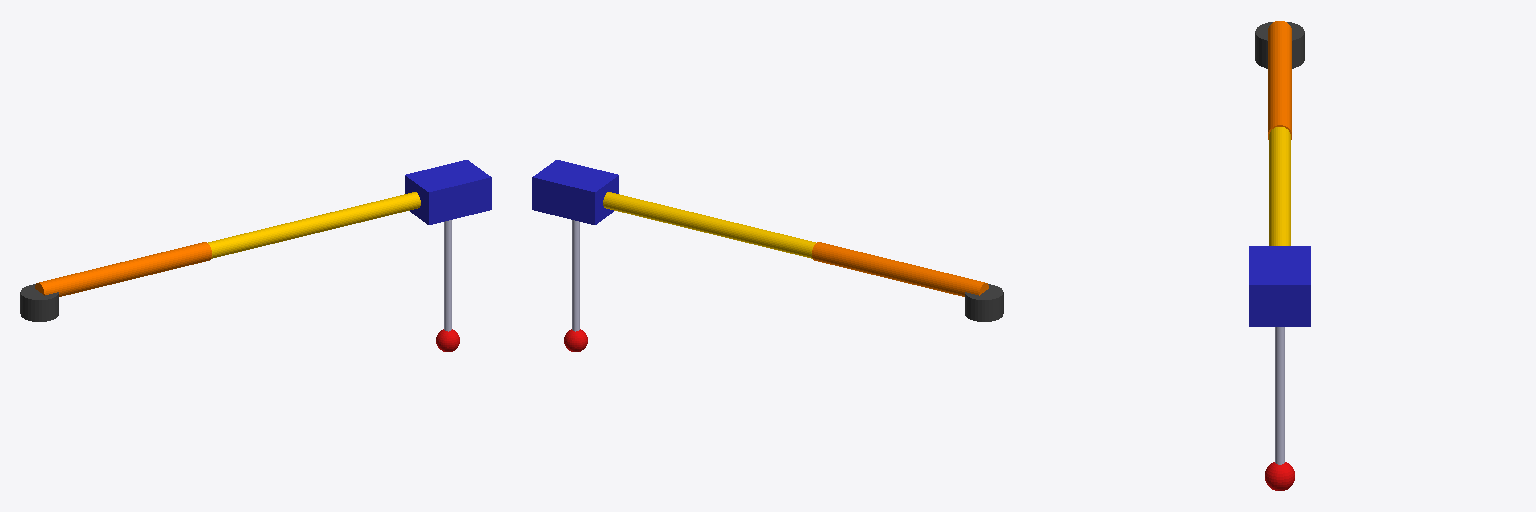
The robot description file, URDF, robot "manipulator_cart_pendulum_combined":
<?xml version="1.0"?>
<robot name="manipulator_cart_pendulum_combined">
  <!--
  Combined URDF: 2-DOF Planar Manipulator + Cart-Pendulum
  
  This merges both robots into a single articulation tree so that PhysX
  solves all constraints together. The key insight: make the manipulator's
  EE constraint the cart position, not a separate joint.
  
  Kinematic Chain:
    world → manipulator_base (fixed)
           → joint_1 (revolute Y) → link_1
           → joint_2 (revolute Y) → link_2  
           → ee_cart_joint (fixed, offset to EE position) → cart
           → pendulum_joint (continuous Y) → pendulum
  
  The cart is RIGIDLY attached to the manipulator at the EE point (1.15m from link_2 origin).
  Forward kinematics of the manipulator directly determines cart position.
  The pendulum swings from the cart.
  
  NOTE: This design removes the original prismatic cart_slider joint.
  The cart now moves with manipulator kinematics in the XZ plane, not along rails.
  This is acceptable if manipulator motion controls cart motion completely.
  -->

  <!-- ============================================ -->
  <!-- WORLD/BASE LINK (Fixed reference frame)      -->
  <!-- ============================================ -->
  <link name="world"/>

  <!-- ============================================ -->
  <!-- MANIPULATOR BASE (Fixed to world)            -->
  <!-- ============================================ -->
  <joint name="manipulator_base_joint" type="fixed">
    <parent link="world"/>
    <child link="manipulator_base"/>
    <origin xyz="-1.5 0 1.325" rpy="0 0 0"/>
  </joint>
  
  <link name="manipulator_base">
    <visual>
      <geometry>
        <cylinder radius="0.08" length="0.1"/>
      </geometry>
      <material name="dark_gray">
        <color rgba="0.3 0.3 0.3 1"/>
      </material>
    </visual>
    <collision>
      <geometry>
        <cylinder radius="0.08" length="0.1"/>
      </geometry>
    </collision>
    <inertial>
      <mass value="5.0"/>
      <origin xyz="0 0 0" rpy="0 0 0"/>
      <inertia ixx="0.01" ixy="0" ixz="0" iyy="0.01" iyz="0" izz="0.02"/>
    </inertial>
  </link>

  <!-- ============================================ -->
  <!-- MANIPULATOR LINK 1 (First arm segment)       -->
  <!-- ============================================ -->
  <!-- Joint 1: Revolute around Y-axis (planar motion in XZ plane) -->
  <joint name="manipulator_joint_1" type="revolute">
    <parent link="manipulator_base"/>
    <child link="manipulator_link_1"/>
    <origin xyz="0 0 0.05" rpy="0 0 0"/>
    <axis xyz="0 1 0"/>
    <limit lower="-3.14159" upper="3.14159" effort="100" velocity="2.0"/>
    <dynamics damping="0.5" friction="0.1"/>
  </joint>
  
  <link name="manipulator_link_1">
    <visual>
      <origin xyz="0.4 0 0" rpy="0 1.5708 0"/>
      <geometry>
        <cylinder radius="0.04" length="0.8"/>
      </geometry>
      <material name="orange">
        <color rgba="1.0 0.5 0.0 1"/>
      </material>
    </visual>
    <collision>
      <origin xyz="0.4 0 0" rpy="0 1.5708 0"/>
      <geometry>
        <cylinder radius="0.04" length="0.8"/>
      </geometry>
    </collision>
    <inertial>
      <mass value="2.0"/>
      <origin xyz="0.4 0 0" rpy="0 0 0"/>
      <inertia ixx="0.001" ixy="0" ixz="0" iyy="0.11" iyz="0" izz="0.11"/>
    </inertial>
  </link>

  <!-- ============================================ -->
  <!-- MANIPULATOR LINK 2 (Second arm segment)      -->
  <!-- ============================================ -->
  <!-- Joint 2: Revolute around Y-axis -->
  <joint name="manipulator_joint_2" type="revolute">
    <parent link="manipulator_link_1"/>
    <child link="manipulator_link_2"/>
    <origin xyz="0.8 0 0" rpy="0 0 0"/>
    <axis xyz="0 1 0"/>
    <limit lower="-3.14159" upper="3.14159" effort="100" velocity="2.0"/>
    <dynamics damping="0.5" friction="0.1"/>
  </joint>
  
  <link name="manipulator_link_2">
    <visual>
      <origin xyz="0.5 0 0" rpy="0 1.5708 0"/>
      <geometry>
        <cylinder radius="0.035" length="1.0"/>
      </geometry>
      <material name="yellow">
        <color rgba="1.0 0.8 0.0 1"/>
      </material>
    </visual>
    <collision>
      <origin xyz="0.5 0 0" rpy="0 1.5708 0"/>
      <geometry>
        <cylinder radius="0.035" length="1.0"/>
      </geometry>
    </collision>
    <inertial>
      <mass value="1.5"/>
      <origin xyz="0.5 0 0" rpy="0 0 0"/>
      <inertia ixx="0.001" ixy="0" ixz="0" iyy="0.125" iyz="0" izz="0.125"/>
    </inertial>
  </link>

  <!-- ============================================ -->
  <!-- CART (Rigidly attached to EE via fixed joint) -->
  <!-- ============================================ -->
  <!-- 
  CRITICAL: This fixed joint connects the manipulator's EE point to the cart.
  The cart is now part of the manipulator's kinematic chain.
  
  EE position: link_2 origin + 1.0m along X = 1.0m from link_2
  Cart center should be at EE + 0.15m (half cart length) = 1.15m from link_2
  
  IMPORTANT: The cart NO LONGER HAS a prismatic joint!
  The manipulator's forward kinematics directly control cart position.
  The cart moves with the manipulator's end-effector in the XZ plane.
  -->
  <joint name="ee_to_cart_joint" type="fixed">
    <parent link="manipulator_link_2"/>
    <child link="cart"/>
    <origin xyz="1.15 0 0" rpy="0 0 0"/>
  </joint>
  
  <link name="cart">
    <visual>
      <geometry>
        <box size="0.3 0.2 0.15"/>
      </geometry>
      <material name="blue">
        <color rgba="0.2 0.2 0.8 1"/>
      </material>
    </visual>
    <collision>
      <geometry>
        <box size="0.3 0.2 0.15"/>
      </geometry>
    </collision>
    <inertial>
      <mass value="5.0"/>
      <origin xyz="0 0 0" rpy="0 0 0"/>
      <inertia ixx="0.05" ixy="0" ixz="0" iyy="0.08" iyz="0" izz="0.06"/>
    </inertial>
  </link>

  <!-- ============================================ -->
  <!-- PENDULUM (Rotates in XZ plane, around Y)     -->
  <!-- ============================================ -->
  <joint name="pendulum_joint" type="continuous">
    <parent link="cart"/>
    <child link="pendulum"/>
    <origin xyz="0 0 -0.075" rpy="0 0 0"/>
    <axis xyz="0 1 0"/>
    <dynamics damping="0.05" friction="0.01"/>
  </joint>
  
  <!-- Pendulum: Rod with point mass at tip -->
  <link name="pendulum">
    <!-- Rod (visual only, massless) -->
    <visual>
      <origin xyz="0 0 -0.3" rpy="0 0 0"/>
      <geometry>
        <cylinder radius="0.015" length="0.6"/>
      </geometry>
      <material name="silver">
        <color rgba="0.8 0.8 0.9 1"/>
      </material>
    </visual>
    <collision>
      <origin xyz="0 0 -0.3" rpy="0 0 0"/>
      <geometry>
        <cylinder radius="0.015" length="0.6"/>
      </geometry>
    </collision>
    <!-- Point mass at pendulum tip (0.6m below pivot) -->
    <inertial>
      <mass value="2.0"/>
      <origin xyz="0 0 -0.6" rpy="0 0 0"/>
      <inertia ixx="0.72" ixy="0" ixz="0" iyy="0.72" iyz="0" izz="0.001"/>
    </inertial>
    <!-- Tip ball (visual) -->
    <visual>
      <origin xyz="0 0 -0.6" rpy="0 0 0"/>
      <geometry>
        <sphere radius="0.05"/>
      </geometry>
      <material name="red">
        <color rgba="0.9 0.1 0.1 1"/>
      </material>
    </visual>
    <collision>
      <origin xyz="0 0 -0.6" rpy="0 0 0"/>
      <geometry>
        <sphere radius="0.05"/>
      </geometry>
    </collision>
  </link>

</robot>

--- What the picture shows (computed from the rendered views, not written in the file) ---
3 views of the same robot in one strip: view 1: azimuth 30°, elevation 25°; view 2: azimuth 150°, elevation 25°; view 3: azimuth 270°, elevation 25° (orthographic).
Model manipulator_cart_pendulum_combined with 6 links and 5 joints (2 revolute, 1 continuous, 2 fixed), rooted at world, posed every joint at zero.
Links seen in each view (by area): view 1: cart, manipulator_link_2, manipulator_link_1, pendulum, manipulator_base; view 2: cart, manipulator_link_2, manipulator_link_1, pendulum, manipulator_base; view 3: cart, manipulator_link_2, manipulator_link_1, pendulum, manipulator_base.
Boxes of the visible links, <box> form: cart: <box>405,160,491,224</box>; manipulator_link_2: <box>208,192,420,258</box>; manipulator_link_1: <box>35,242,211,296</box>; pendulum: <box>436,220,459,351</box>; manipulator_base: <box>20,284,58,321</box>; cart: <box>532,160,618,224</box>; manipulator_link_2: <box>603,192,815,258</box>; manipulator_link_1: <box>812,242,988,296</box>; pendulum: <box>564,220,587,351</box>; manipulator_base: <box>965,284,1003,321</box>; cart: <box>1249,246,1310,326</box>; manipulator_link_2: <box>1269,127,1290,245</box>; manipulator_link_1: <box>1268,21,1291,139</box>; pendulum: <box>1265,327,1294,490</box>; manipulator_base: <box>1255,22,1304,68</box>.
Bounding box of the posed robot: 2.18 × 0.2 × 0.8 m (x, y, z).
Geometry: primitives only (box / cylinder / sphere), no mesh files.
